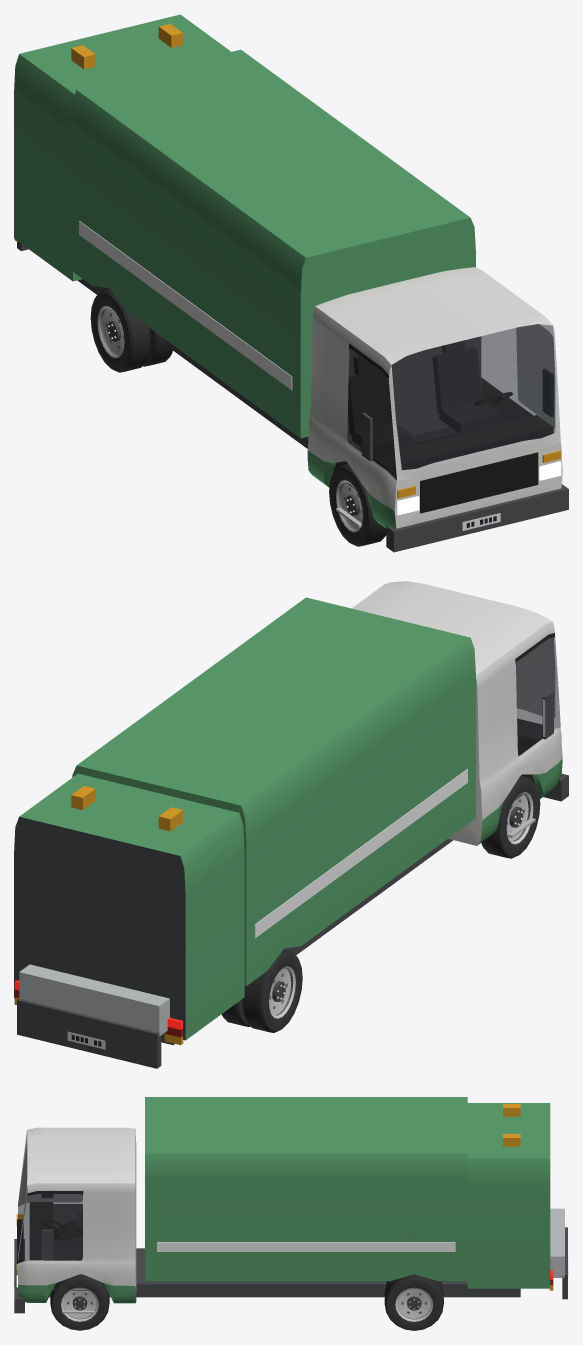
The model's file is garbage_truck.glb.
3 renders of one model, top to bottom at view 1: azimuth 30°, elevation 25°; view 2: azimuth 150°, elevation 25°; view 3: azimuth 270°, elevation 25°, orthographic. The views are drawn at different scales.
Visible parts, largest first — view 1: garbage_truck_body, Wheel_RR, Wheel_FR; view 2: garbage_truck_body, Wheel_RR, Wheel_FR; view 3: garbage_truck_body, Wheel_RL, Wheel_FL.
Part boxes in pixels (x1,y1,x2,y2): garbage_truck_body: (14, 14, 568, 552); Wheel_RR: (90, 289, 172, 372); Wheel_FR: (329, 463, 386, 546); garbage_truck_body: (14, 581, 568, 1068); Wheel_RR: (221, 950, 302, 1032); Wheel_FR: (481, 775, 540, 858); garbage_truck_body: (14, 1097, 568, 1313); Wheel_RL: (384, 1274, 443, 1330); Wheel_FL: (50, 1274, 109, 1330).
Bounding box in the file's own units: 0.126 × 0.169 × 0.469.
8 materials, 1 textured.
